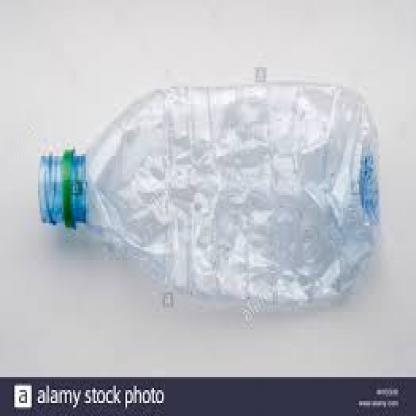Plastic: (19, 67, 389, 325)
